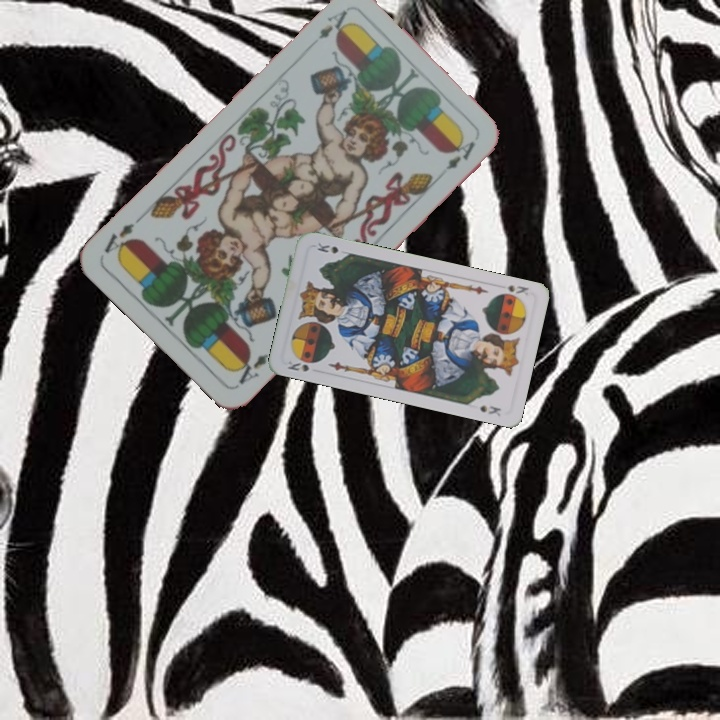EA: (229, 342, 279, 388), (314, 5, 351, 42)
SK: (502, 281, 532, 299), (284, 356, 312, 374)
